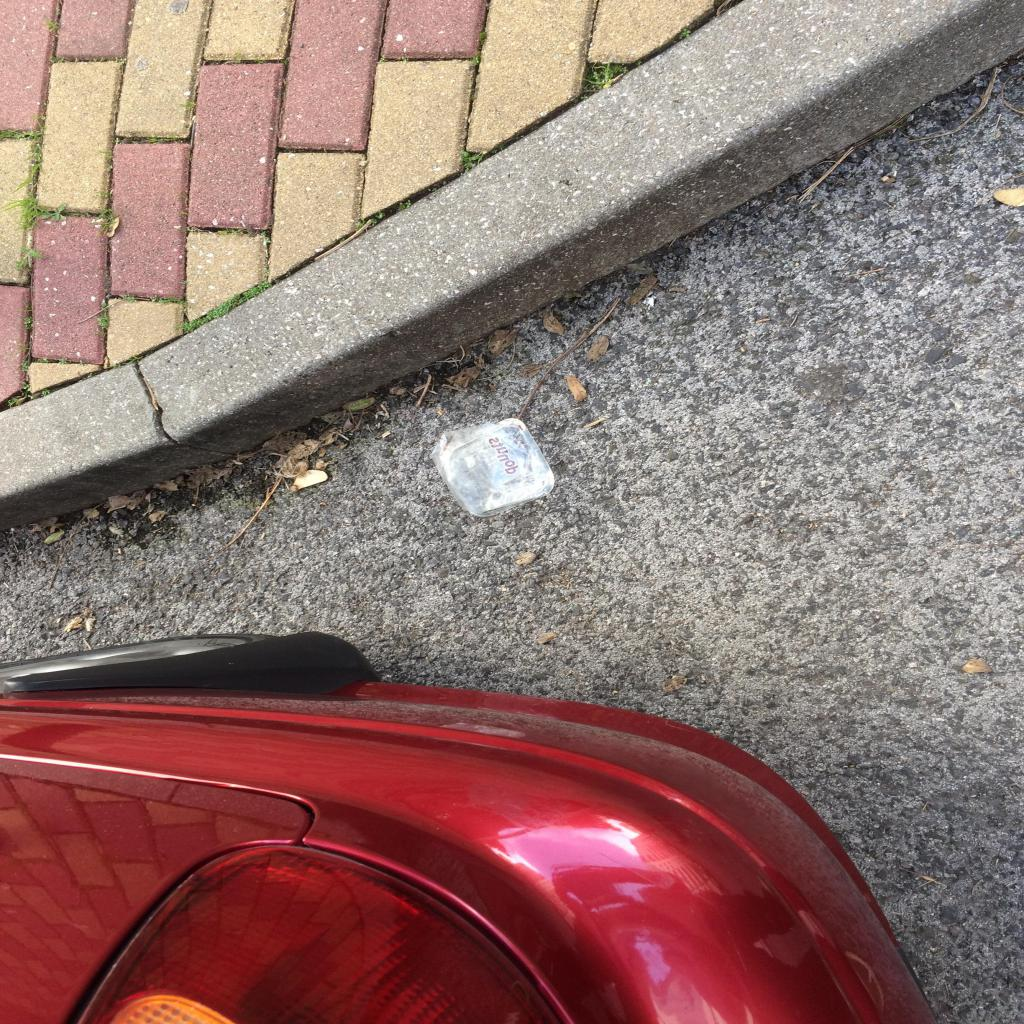Disposable food container: (431, 418, 555, 515)
